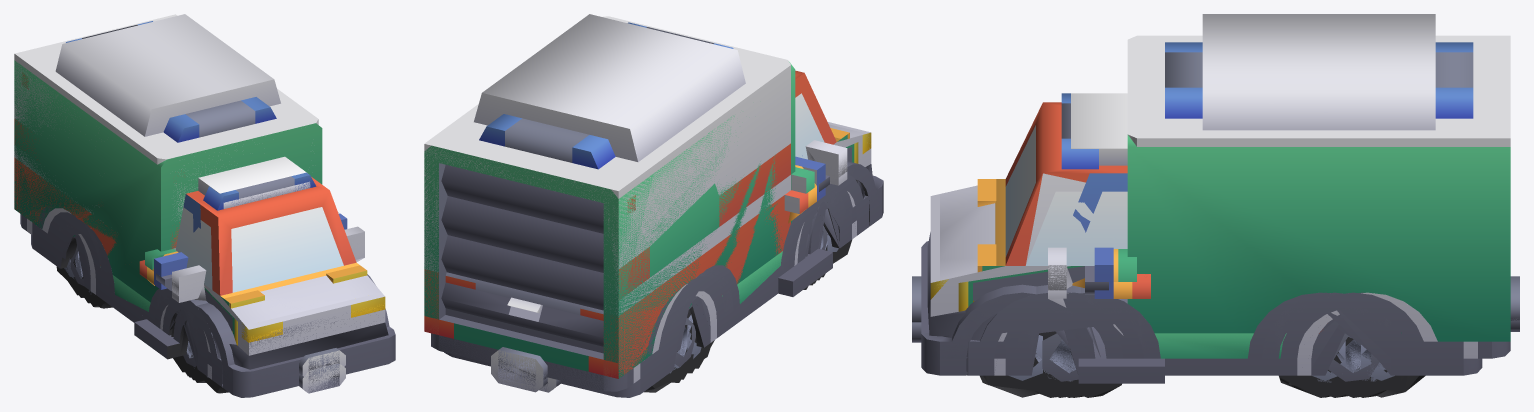
The model's file is parked.glb.
3 renders of one model, left to right at view 1: azimuth 30°, elevation 25°; view 2: azimuth 150°, elevation 25°; view 3: azimuth 270°, elevation 25°, orthographic. The views are drawn at different scales.
Parts seen in each view (by area): view 1: body (×10), body__lod (×5); view 2: body (×9), body__lod (×5), door; view 3: body (×11), body__lod (×8), wheel-front-left (×5), wheel-back-left (×5).
Boxes of the visible parts, box(x1,y1,x2,y2) form: body (×10): box(14, 14, 395, 397); body__lod (×5): box(14, 54, 388, 393); body (×9): box(424, 14, 883, 397); body__lod (×5): box(424, 27, 872, 392); door: box(441, 165, 603, 346); body (×11): box(912, 14, 1519, 383); body__lod (×8): box(927, 35, 1510, 375); wheel-front-left (×5): box(980, 331, 1098, 397); wheel-back-left (×5): box(1293, 333, 1425, 397).
Bounding box in the file's own units: 1.5 × 1.8 × 3.25.
1 material, 1 textured.
